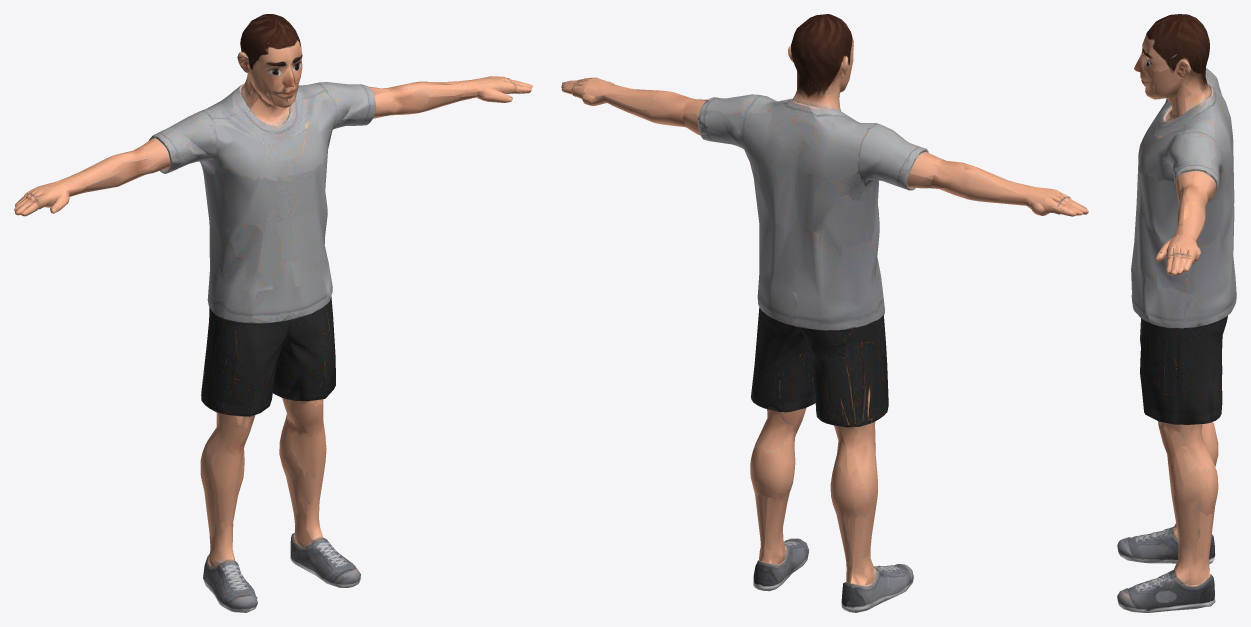
3 renders of one model, left to right at view 1: azimuth 30°, elevation 25°; view 2: azimuth 150°, elevation 25°; view 3: azimuth 270°, elevation 25°, orthographic.
Bounding box in the file's own units: 1.83 × 1.9 × 0.363.
Materials: 1 (1 with a texture image).
